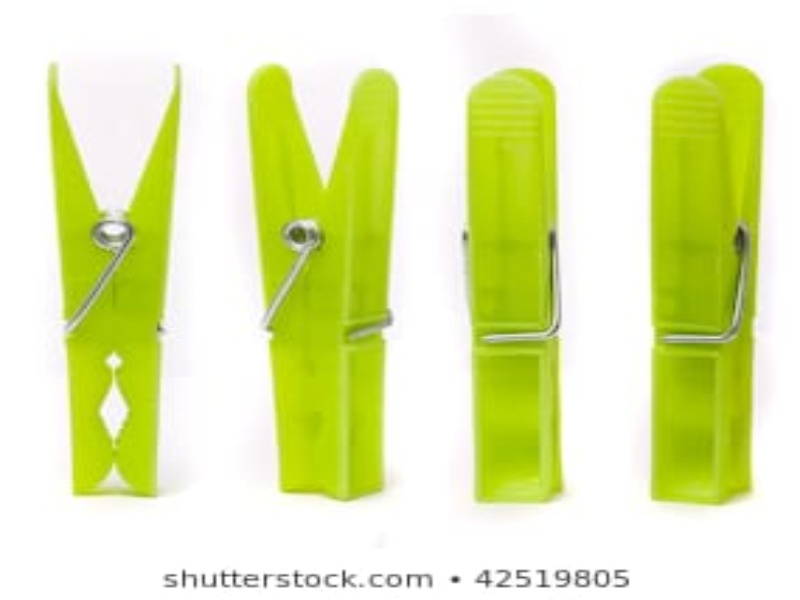plastic-peg: (241, 59, 398, 502), (40, 58, 178, 500), (456, 65, 574, 506), (645, 58, 759, 507)
